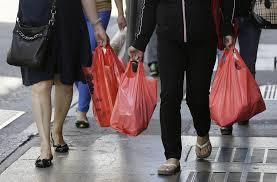Plastic bag: (89, 41, 163, 137), (205, 41, 264, 129)
